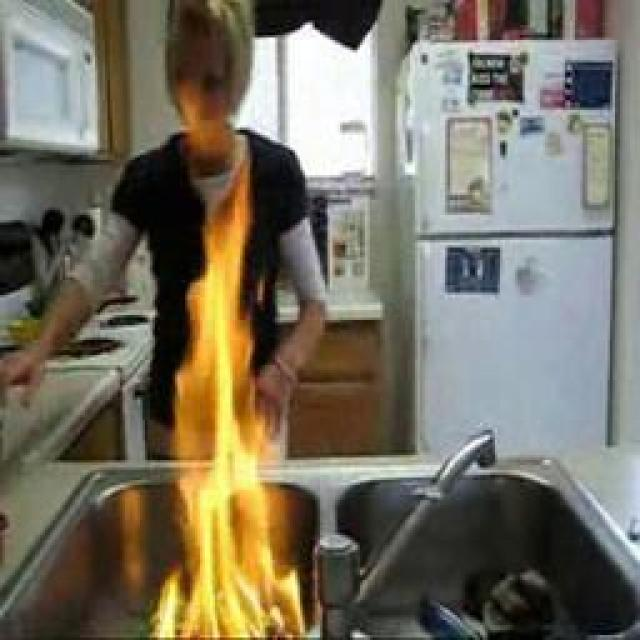fire: (156, 157, 316, 637)
